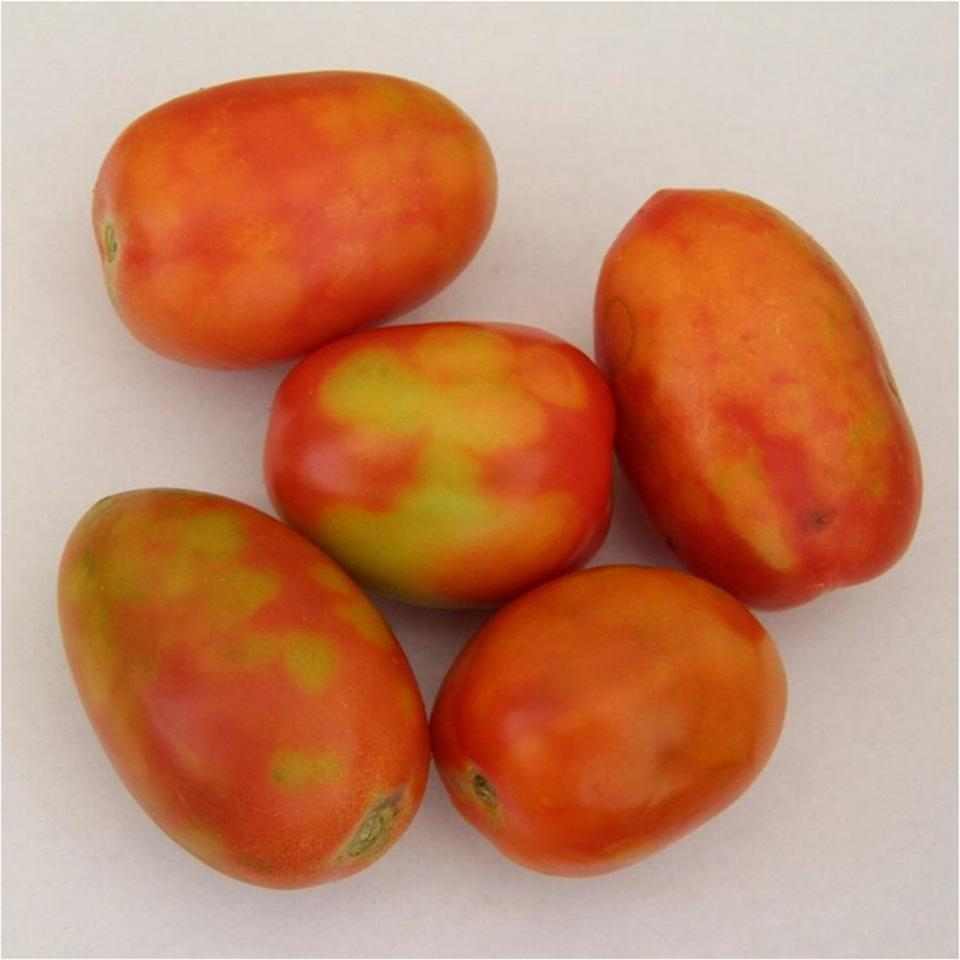Spotted wilt Virus: (55, 484, 433, 895), (587, 178, 927, 618), (85, 61, 503, 370), (433, 554, 791, 878), (265, 312, 622, 616)
